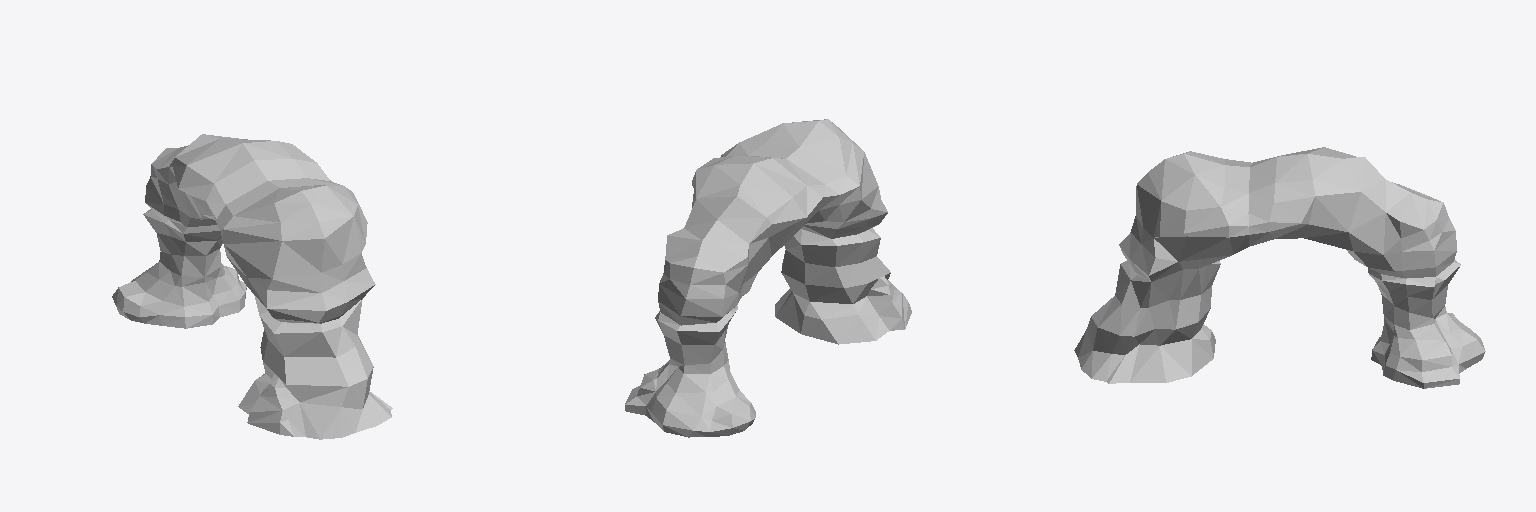
The model's file is rock_009.obj.
The picture shows the model from 3 angles: view 1: azimuth 30°, elevation 25°; view 2: azimuth 150°, elevation 25°; view 3: azimuth 270°, elevation 25°; orthographic projection.
Visible parts, largest first — view 1: rock_009 rock_009; view 2: rock_009 rock_009; view 3: rock_009 rock_009.
Part boxes in pixels (bbox=[...]): rock_009 rock_009: bbox=[112, 134, 392, 439]; rock_009 rock_009: bbox=[625, 119, 911, 437]; rock_009 rock_009: bbox=[1074, 147, 1485, 388].
Size of the model in its own units: 735 by 986 by 1793.